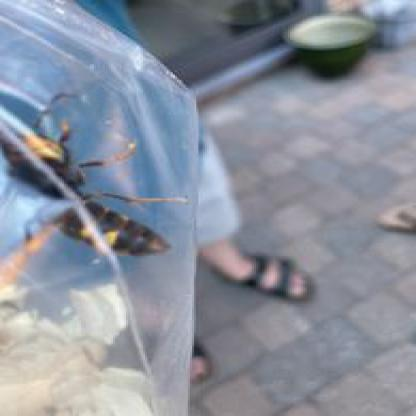Asian Hornet: (0, 91, 185, 295)
